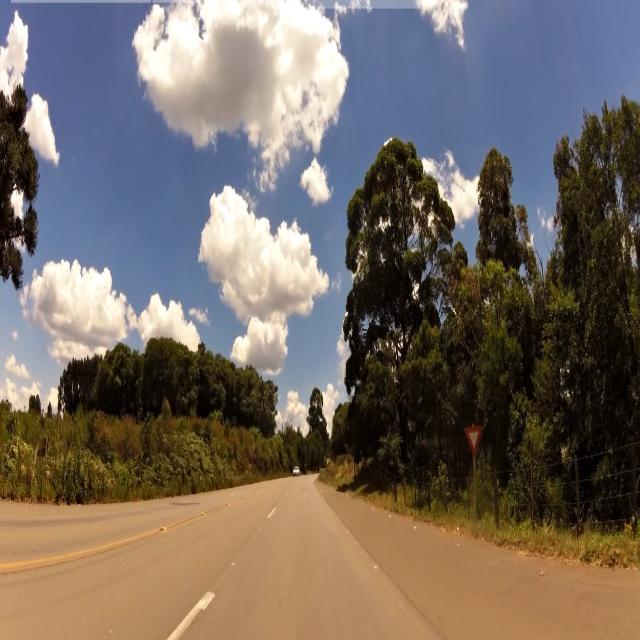R-2: (463, 424, 485, 456)
